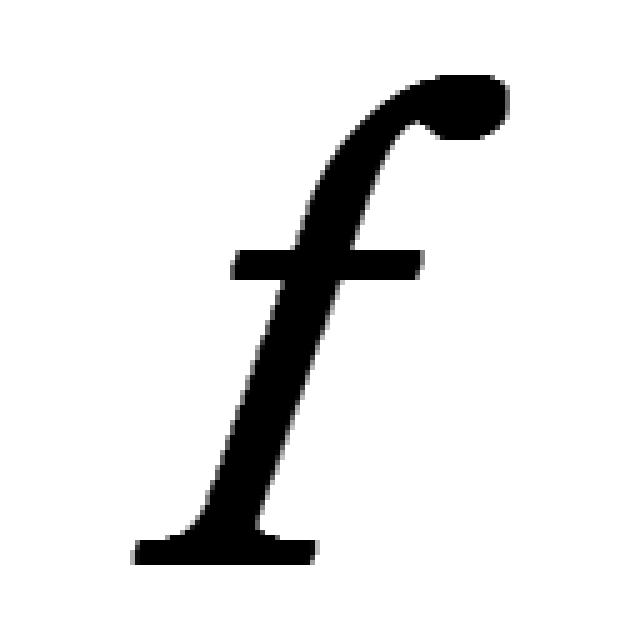F: (125, 60, 515, 570)
